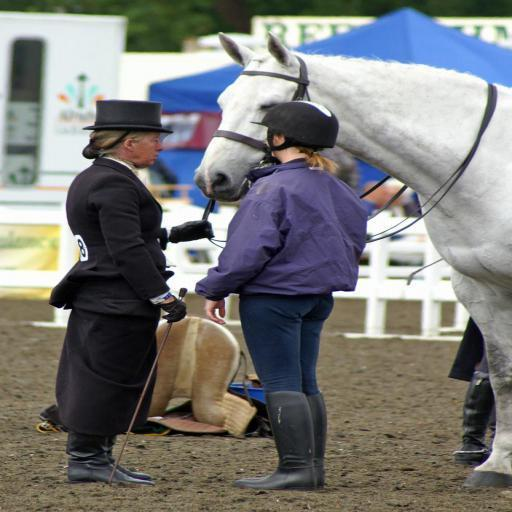horse: (191, 28, 512, 492)
